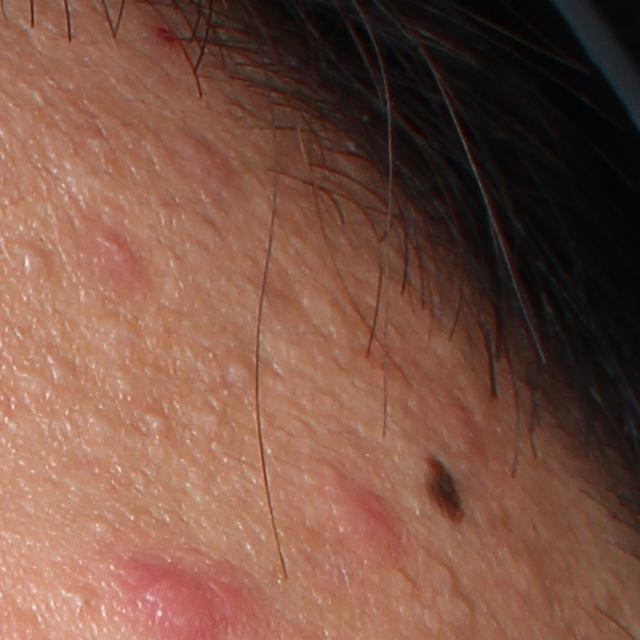comedo: (11, 232, 59, 282), (110, 365, 143, 396), (226, 356, 255, 385), (89, 516, 119, 541), (139, 410, 167, 434)
nevus: (425, 452, 466, 521)
papule: (324, 471, 406, 556), (180, 127, 235, 189)
